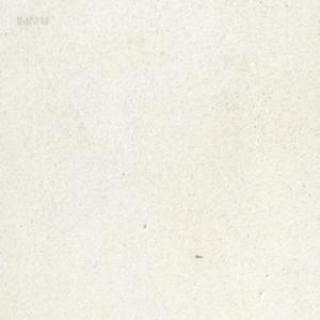Nailtrack_idkeyframe: (194, 252, 202, 258)
